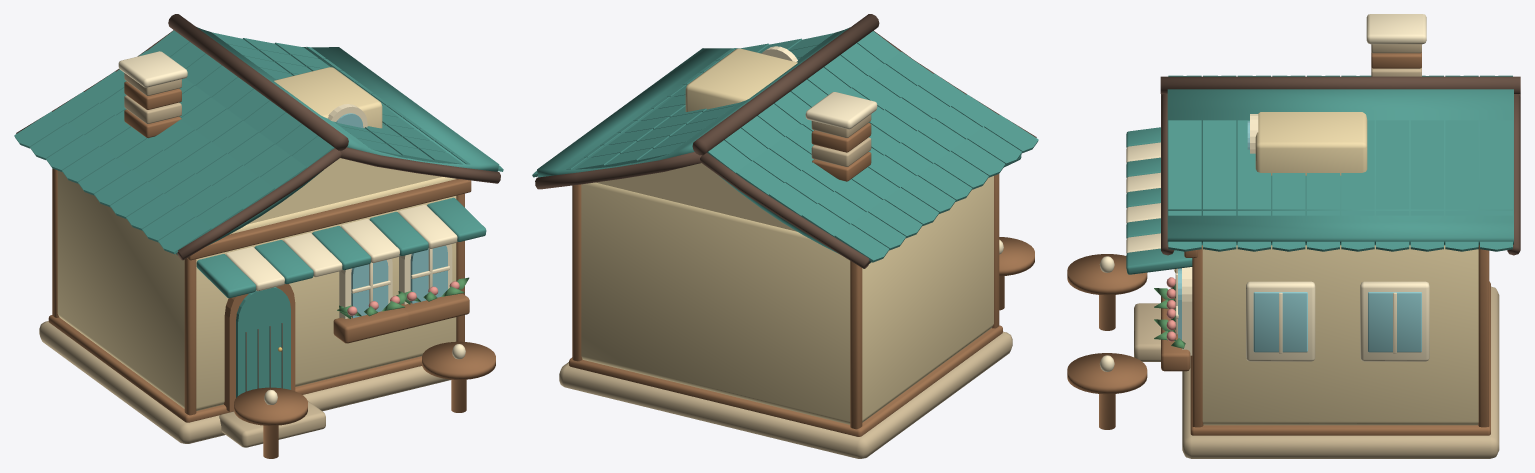
The model's file is cafe.glb.
The picture shows the model from 3 angles, left to right: view 1: azimuth 30°, elevation 25°; view 2: azimuth 150°, elevation 25°; view 3: azimuth 270°, elevation 25°; orthographic projection. The views are drawn at different scales.
Visible parts, largest first — view 1: cafe_crafted_mesh; view 2: cafe_crafted_mesh; view 3: cafe_crafted_mesh.
Part boxes in pixels (bbox=[...]): cafe_crafted_mesh: bbox=[14, 14, 503, 458]; cafe_crafted_mesh: bbox=[532, 14, 1038, 458]; cafe_crafted_mesh: bbox=[1067, 14, 1520, 458].
Size of the model in its own units: 5 by 4.2 by 5.44.
